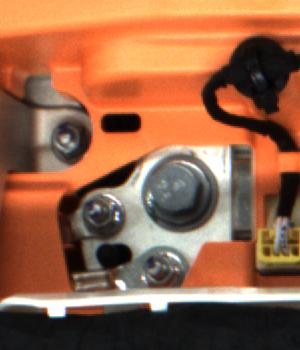nut_b: (142, 147, 221, 236)
screw_s: (78, 191, 117, 232), (46, 118, 83, 160), (138, 250, 178, 286)
